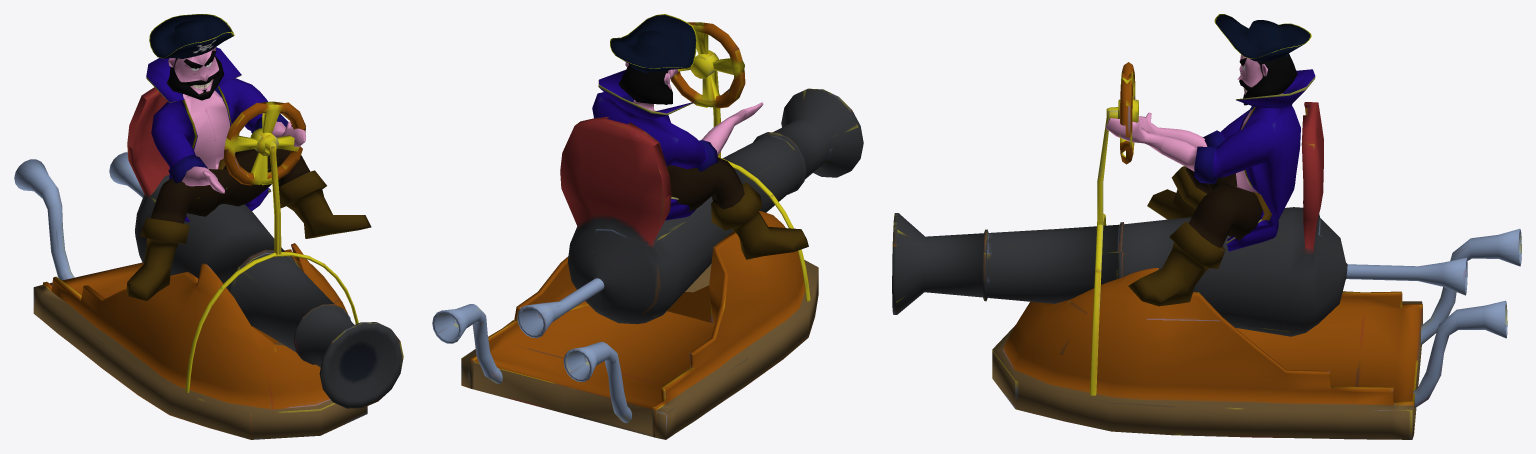
File: pirataGiroDer_000168.obj
3 renders of one model, left to right at view 1: azimuth 30°, elevation 25°; view 2: azimuth 150°, elevation 25°; view 3: azimuth 270°, elevation 25°, orthographic. The views are drawn at different scales.
Visible parts, largest first — view 1: carro_pirata, Pirata_PirataH_Pirata_PirataH.001; view 2: carro_pirata, Pirata_PirataH_Pirata_PirataH.001; view 3: carro_pirata, Pirata_PirataH_Pirata_PirataH.001.
Part boxes in pixels (x1=…): carro_pirata: x1=14, y1=87, x2=403, y2=439; Pirata_PirataH_Pirata_PirataH.001: x1=126, y1=14, x2=371, y2=300; carro_pirata: x1=432, y1=22, x2=863, y2=439; Pirata_PirataH_Pirata_PirataH.001: x1=592, y1=14, x2=808, y2=259; carro_pirata: x1=892, y1=62, x2=1521, y2=439; Pirata_PirataH_Pirata_PirataH.001: x1=1105, y1=14, x2=1315, y2=306.
Bounding box in the file's own units: 5.63 × 7.55 × 12.1.
Materials: 2 (2 with a texture image).
